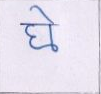o_matra: (45, 11, 58, 51)
